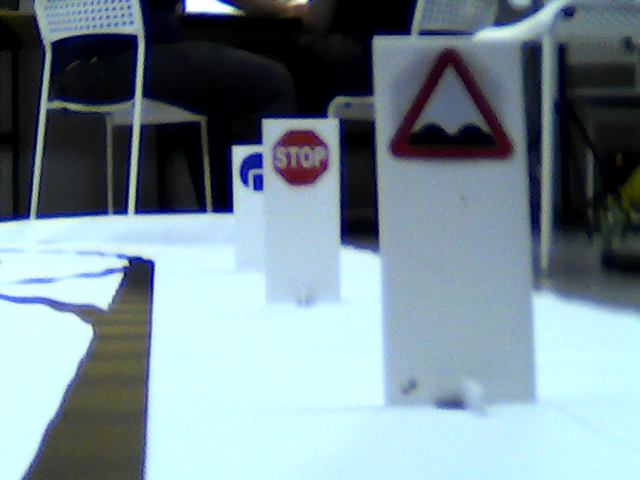Nerov: (385, 45, 513, 165)
Stop: (268, 125, 333, 186)
